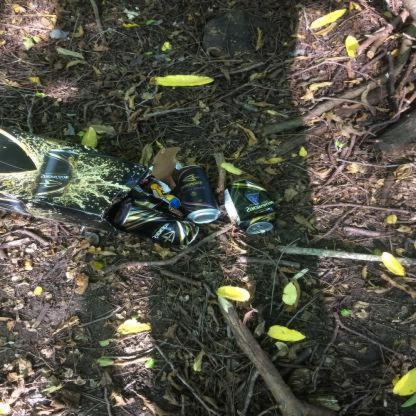Can: (114, 203, 199, 247), (225, 179, 276, 235), (177, 166, 221, 224), (116, 185, 160, 209)
Carton: (0, 126, 181, 235)
Plastic bag - wrapper: (151, 184, 187, 219), (138, 178, 171, 196)
Pop tab: (255, 226, 267, 233)
